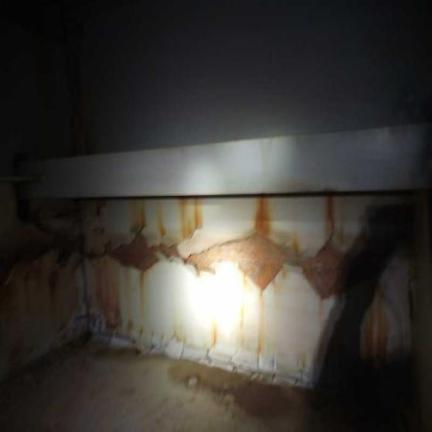besi_tidak_karat: (79, 0, 431, 152), (0, 346, 412, 431), (20, 123, 431, 197), (0, 248, 86, 378)
karat: (84, 228, 290, 289), (187, 237, 344, 299), (187, 233, 295, 290), (107, 235, 177, 270), (179, 198, 202, 238), (254, 197, 270, 235), (130, 200, 145, 233), (194, 199, 202, 228)
